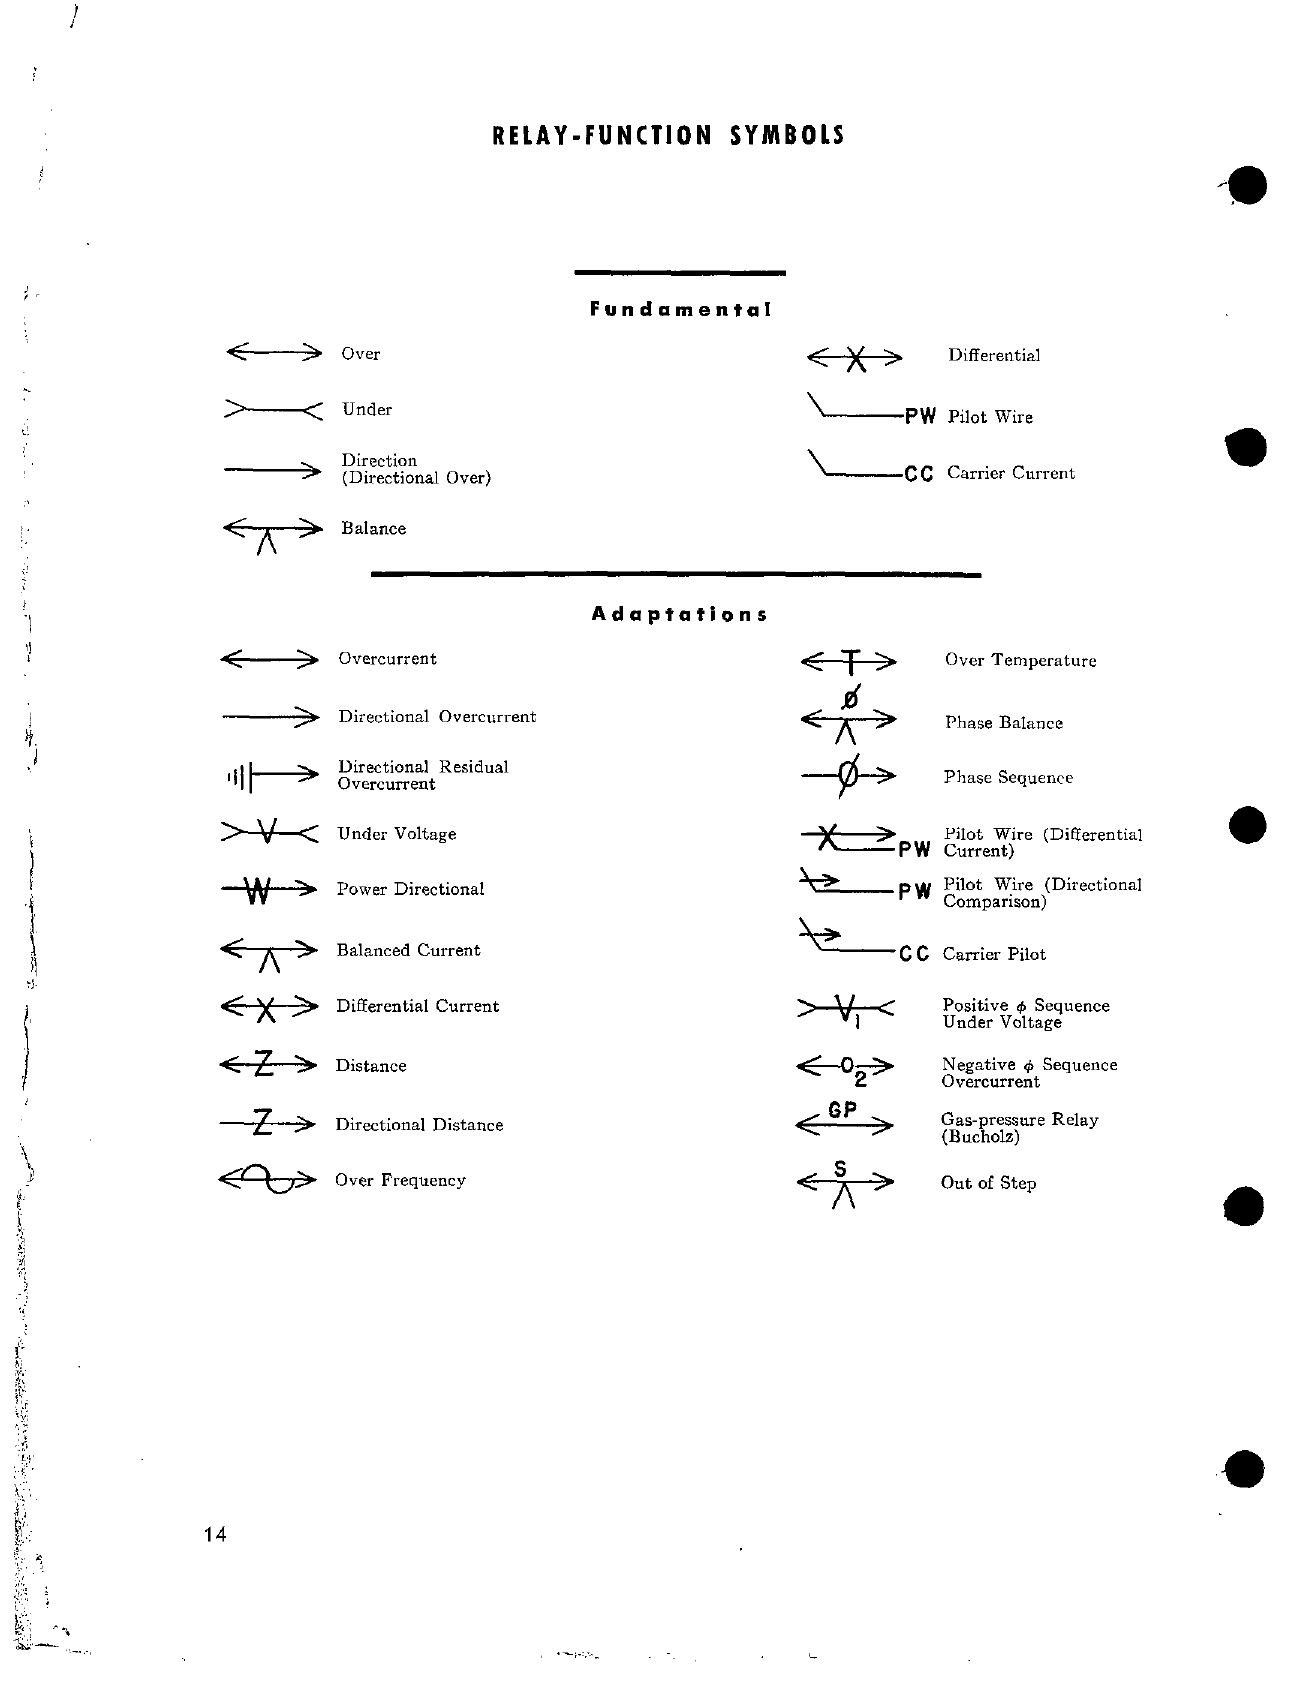ground: (206, 741, 270, 808)
